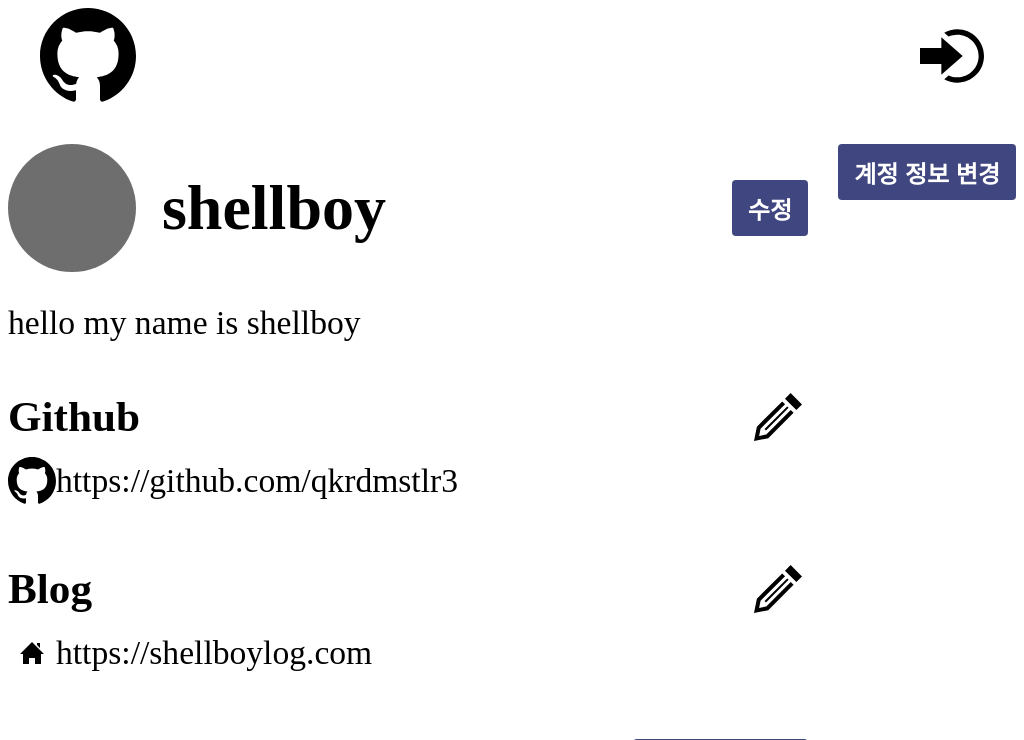
Test: <Profile> 페이지 › 비밀번호 변경 기능 › 비밀번호 변경 에러
Click the button "계정 정보 변경" at coordinates (927, 172), box [838,144,1016,200]
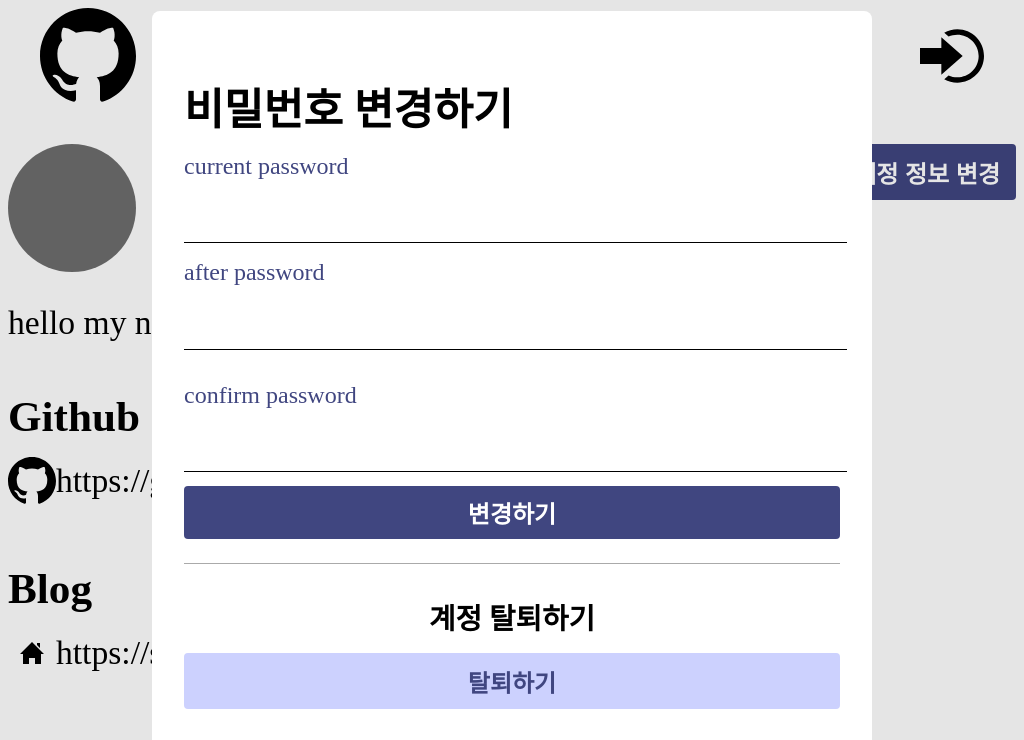
Type "currentpassword" into the password field named "currentpw" at coordinates (516, 225), box [184,207,847,243]
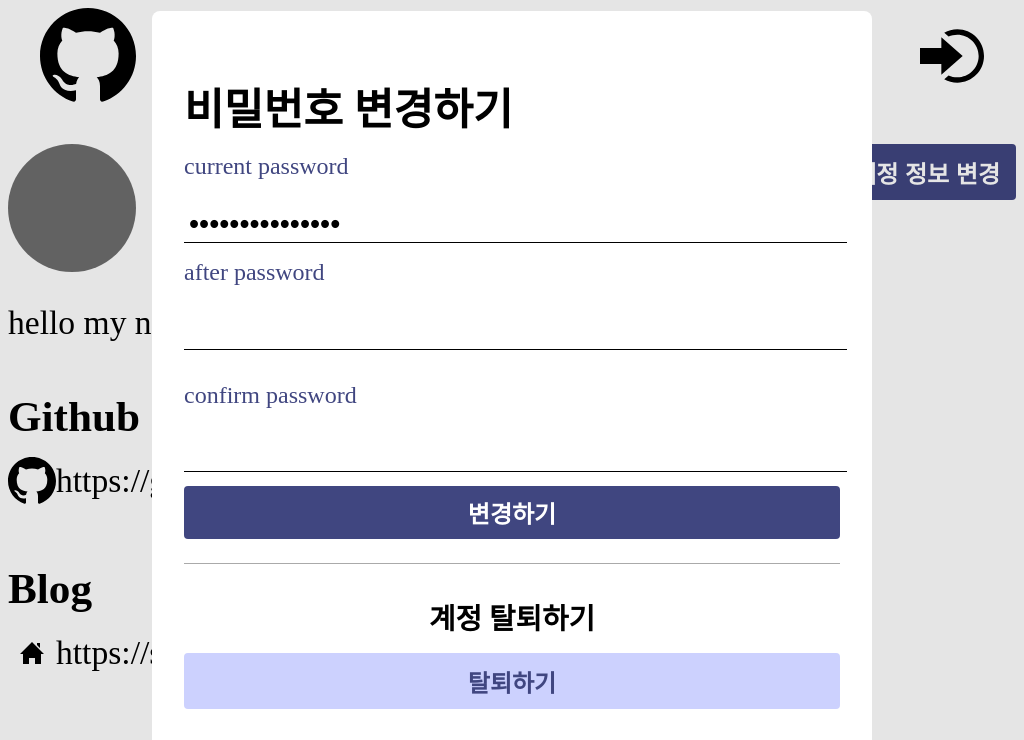
Type "afterpassword" into the password field named "afterpw" at coordinates (516, 332), box [184,314,847,350]
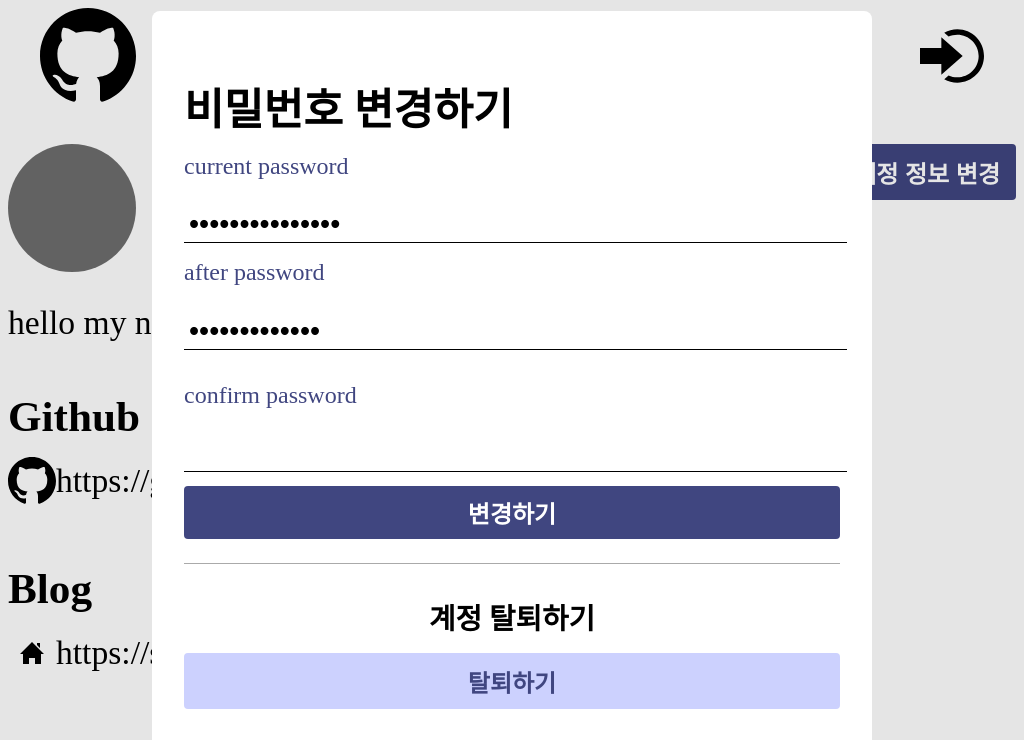
Type "afterpassword" into the password field named "confirmpw" at coordinates (516, 454), box [184,436,847,472]
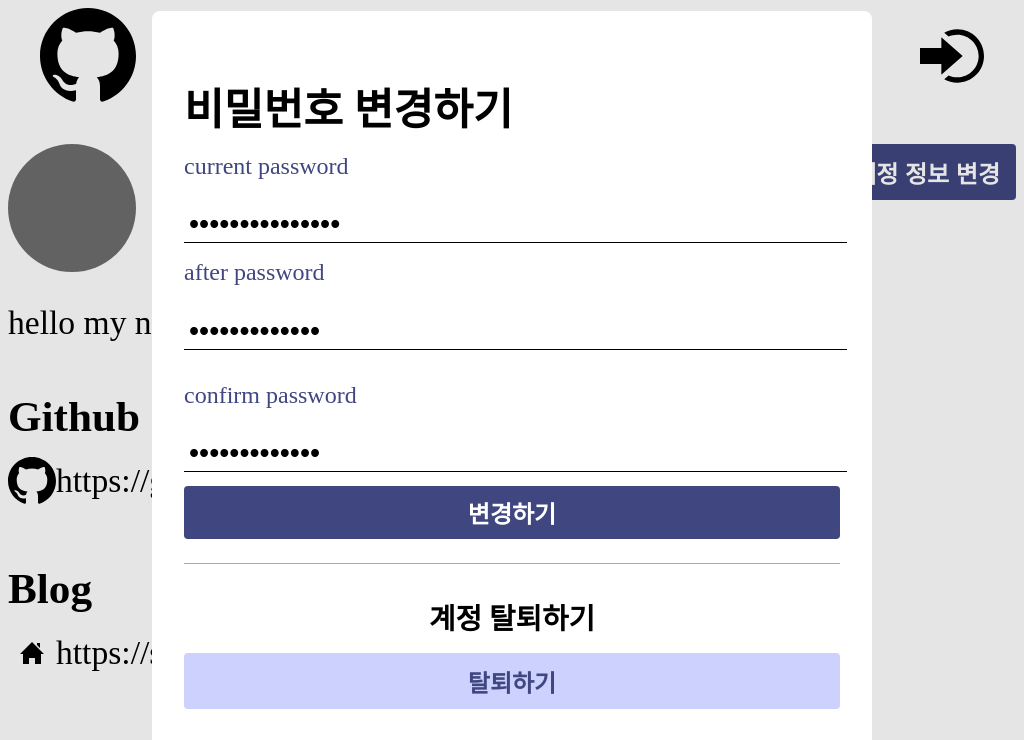
Click the button "변경하기" at coordinates (512, 513), box [184,486,840,539]
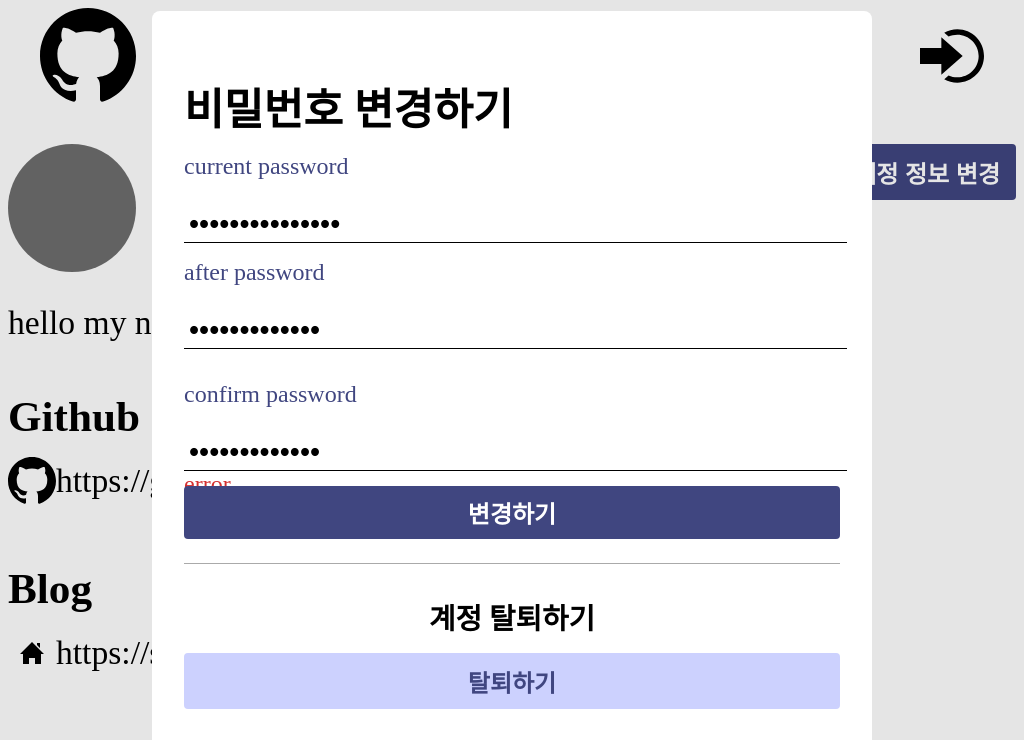
Expected: the text "error" is shown, [184,471,231,497]
